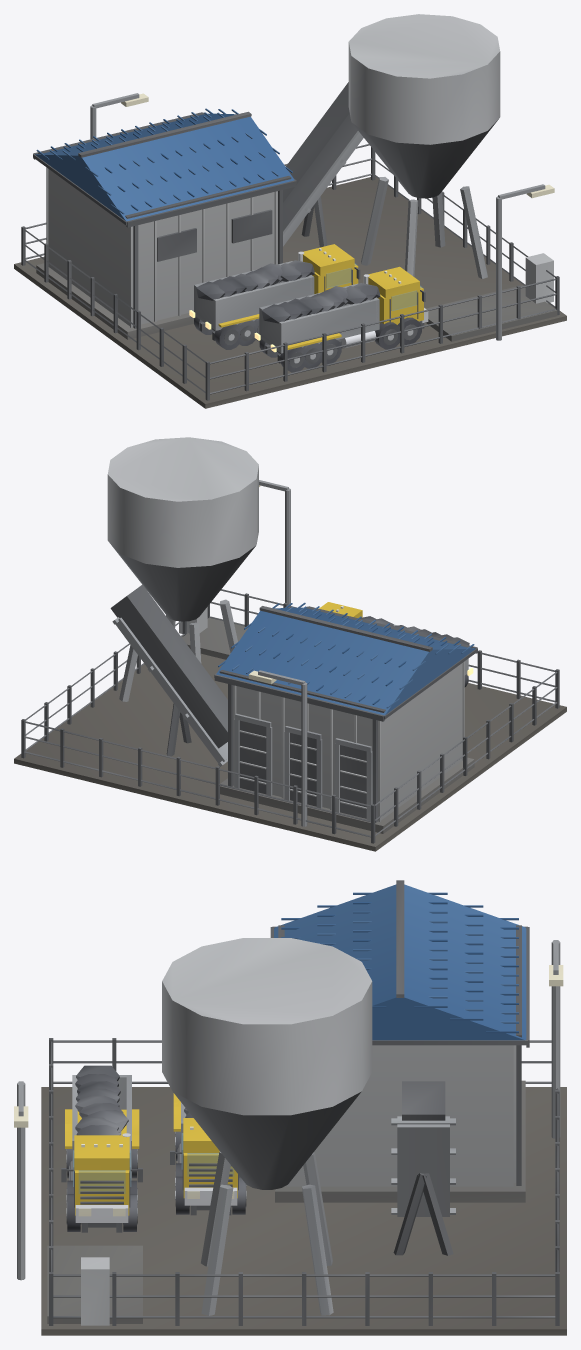
The model's file is Haul_P2.fbx.
The picture shows the model from 3 angles, top to bottom: view 1: azimuth 30°, elevation 25°; view 2: azimuth 150°, elevation 25°; view 3: azimuth 270°, elevation 25°; orthographic projection. The views are drawn at different scales.
Parts seen in each view (by area): view 1: Haul.Workshop, Haul.Hopper, Haul.Yard, Haul.Parked1, Haul.Fence, Haul.Parked0, Haul.Conv, Haul.Weighbridge, Haul.Lamp0, Haul.Lamp1; view 2: Haul.Workshop, Haul.Hopper, Haul.Yard, Haul.Fence, Haul.Conv, Haul.Weighbridge, Haul.Lamp1, Haul.Parked1, Haul.Lamp0; view 3: Haul.Yard, Haul.Workshop, Haul.Hopper, Haul.Parked1, Haul.Fence, Haul.Conv, Haul.Weighbridge, Haul.Parked0, Haul.Lamp1, Haul.Lamp0.
Boxes of the visible parts, x1,y1,x2,y2 form: Haul.Workshop: (33,108,296,339); Haul.Hopper: (348,14,500,278); Haul.Yard: (14,177,566,408); Haul.Parked1: (254,266,428,372); Haul.Fence: (21,144,559,400); Haul.Parked0: (189,244,360,349); Haul.Conv: (283,82,363,247); Haul.Weighbridge: (425,253,557,341); Haul.Lamp0: (496,184,554,340); Haul.Lamp1: (90,93,148,139); Haul.Workshop: (214,602,477,833); Haul.Hopper: (107,437,258,701); Haul.Yard: (14,636,566,851); Haul.Fence: (21,589,559,843); Haul.Conv: (110,584,227,766); Haul.Weighbridge: (179,607,248,659); Haul.Lamp1: (248,670,307,826); Haul.Parked1: (319,602,473,687); Haul.Lamp0: (259,480,290,607); Haul.Yard: (41,1087,566,1335); Haul.Workshop: (270,880,529,1202); Haul.Hopper: (162,938,372,1315); Haul.Parked1: (61,1065,142,1232); Haul.Fence: (49,1038,559,1325); Haul.Conv: (391,1081,455,1255); Haul.Weighbridge: (47,1245,142,1325); Haul.Parked0: (170,1093,246,1215); Haul.Lamp1: (549,940,563,1138); Haul.Lamp0: (14,1081,28,1280).
Bounding box in the file's own units: 2429 × 1456 × 2315.
